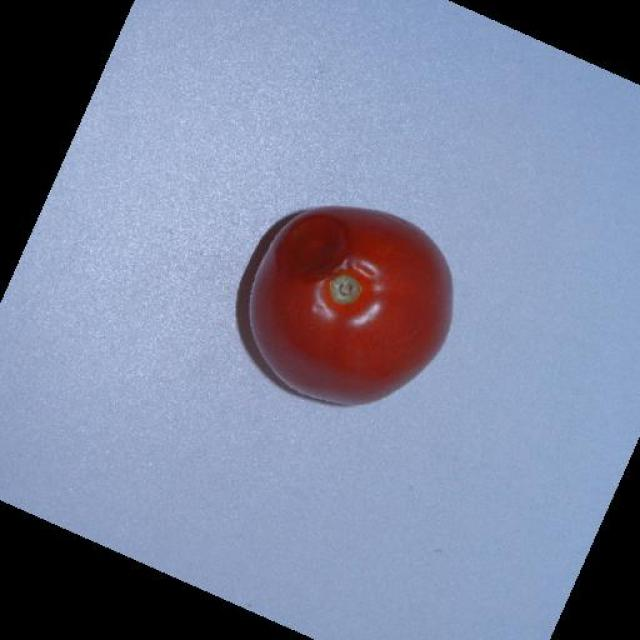Stale_tomato: (263, 191, 442, 397)
